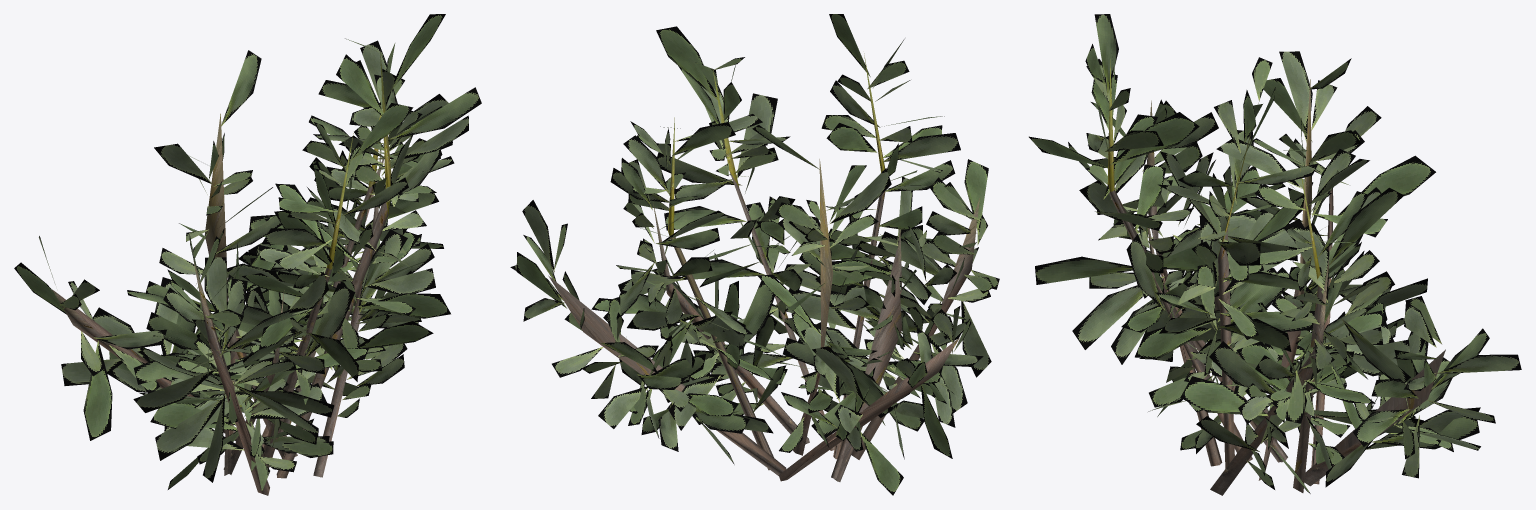
File: bush_g.glb
The picture shows the model from 3 angles, left to right: view 1: azimuth 30°, elevation 25°; view 2: azimuth 150°, elevation 25°; view 3: azimuth 270°, elevation 25°; orthographic projection. The views are drawn at different scales.
Parts seen in each view (by area): view 1: bush_g; view 2: bush_g; view 3: bush_g.
Boxes of the visible parts, bbox=[...] form: bush_g: bbox=[14, 14, 481, 495]; bush_g: bbox=[510, 14, 999, 495]; bush_g: bbox=[1029, 14, 1521, 495].
Bounding box in the file's own units: 1.07 × 1 × 0.941.
Materials: 2 (2 with a texture image).
